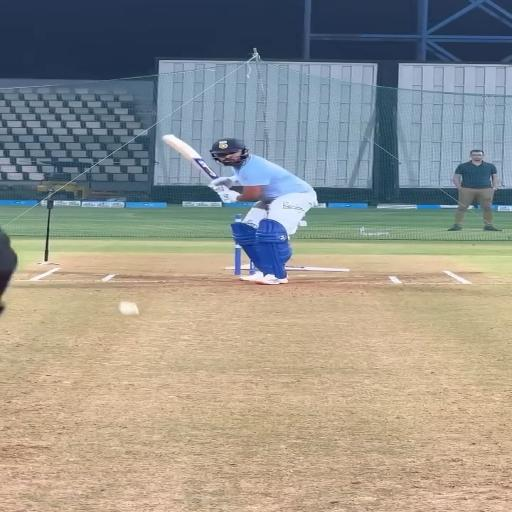Cricket bat: (164, 135, 218, 180)
